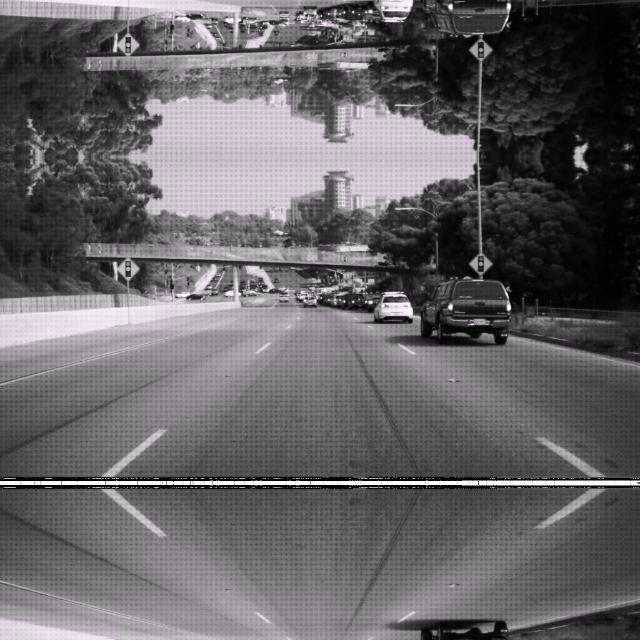signalAhead: (115, 254, 139, 280), (115, 32, 139, 58), (468, 250, 492, 274), (468, 38, 492, 62), (340, 254, 348, 262), (340, 50, 348, 58)
